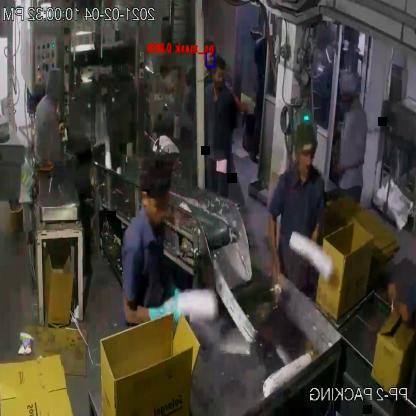no_glove: (332, 124, 369, 180), (267, 196, 288, 294), (386, 265, 415, 330), (156, 68, 192, 102)
